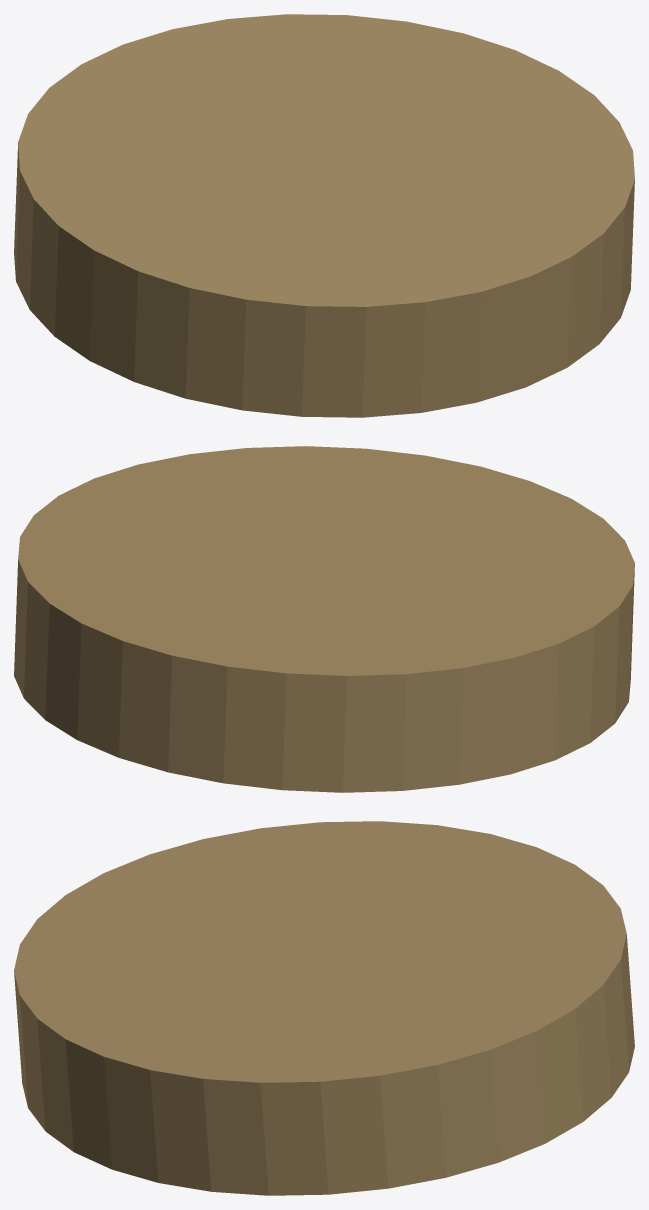
File: right_shoulder_x_link_visual_3.obj.full.glb
The picture shows the model from 3 angles, top to bottom: view 1: azimuth 30°, elevation 25°; view 2: azimuth 150°, elevation 25°; view 3: azimuth 270°, elevation 25°; orthographic projection.
Size of the model in its own units: 0.1667 by 0.0448 by 0.1686.
